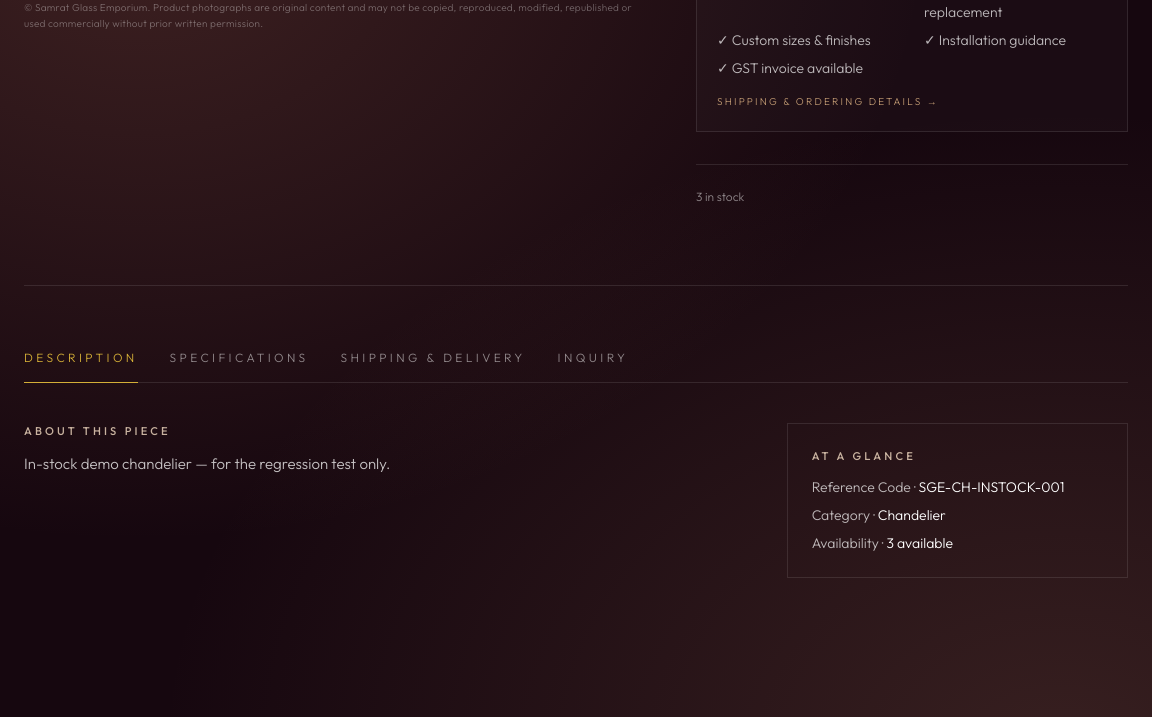
Test: ProductDetail — ProductTabs decision flow › Description, Specifications, and Inquiry tabs remain selectable
(page scrolled)
Check: the element with test id "tab-content-description" is shown, box x1=24 y1=423 x2=1128 y2=578
Click the button with test id "tab-specifications" at (239, 358), box x1=170 y1=334 x2=309 y2=382
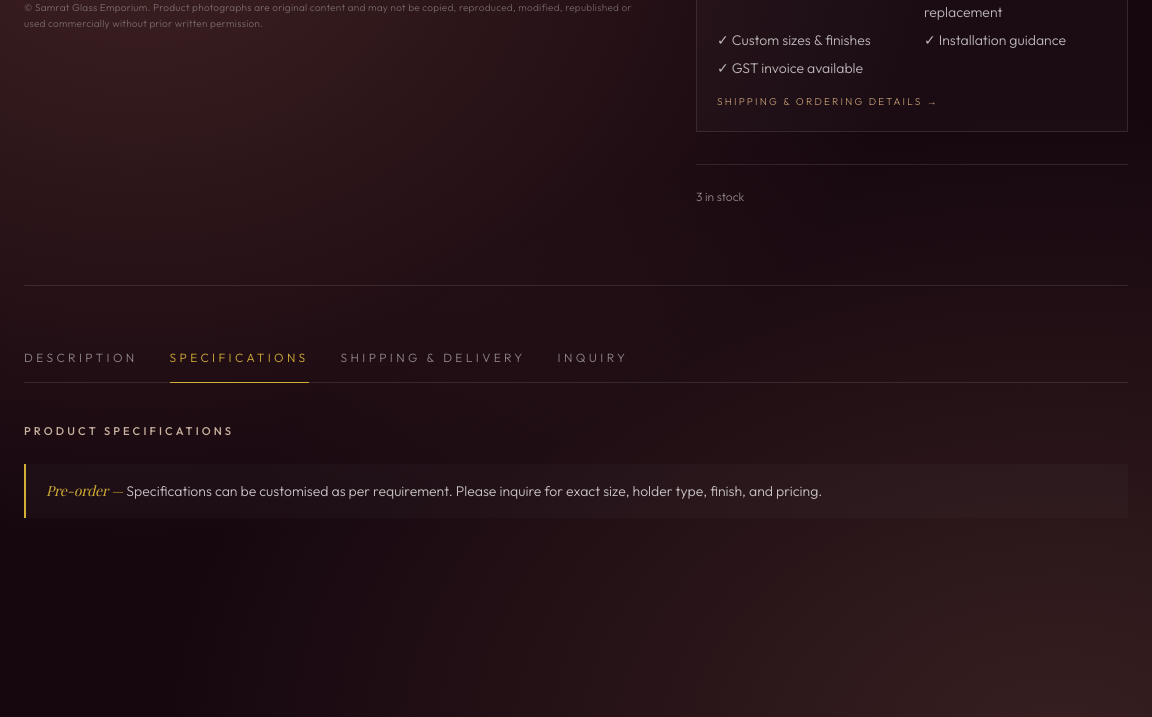
Check: the element with test id "tab-content-specifications" is shown, box x1=24 y1=423 x2=1128 y2=518
Click the button with test id "tab-inquiry" at (593, 358), box x1=558 y1=334 x2=628 y2=382
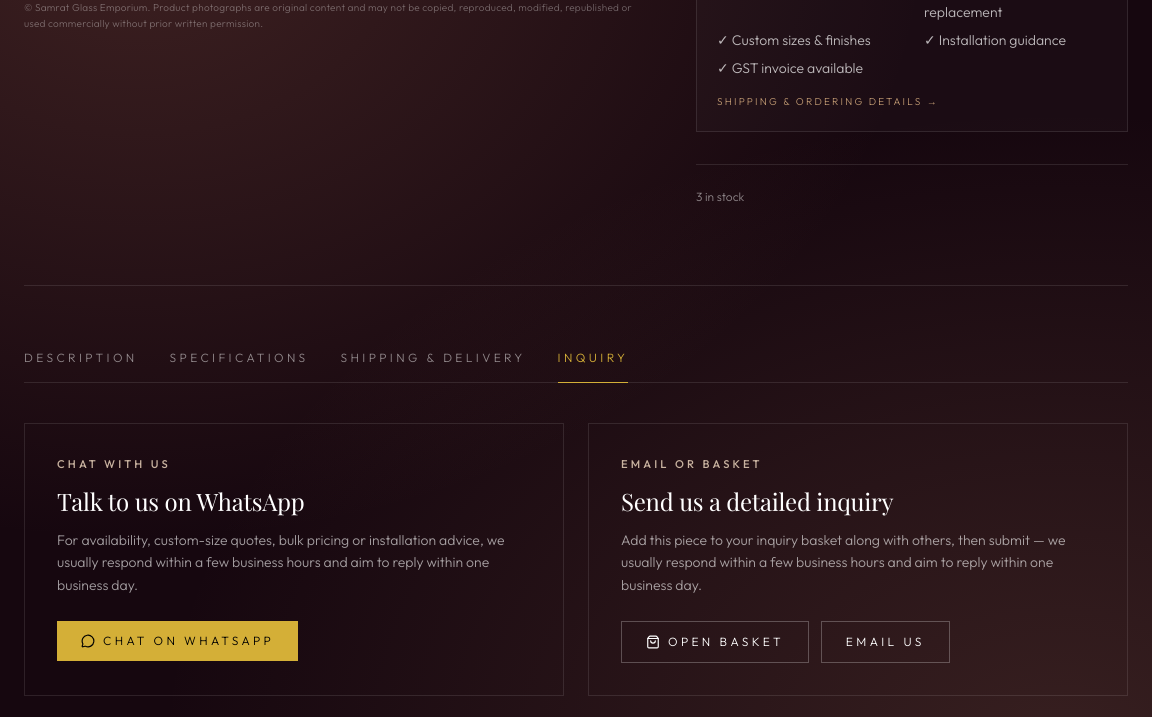
Check: the element with test id "tab-content-inquiry" is shown, box x1=24 y1=423 x2=1128 y2=696
